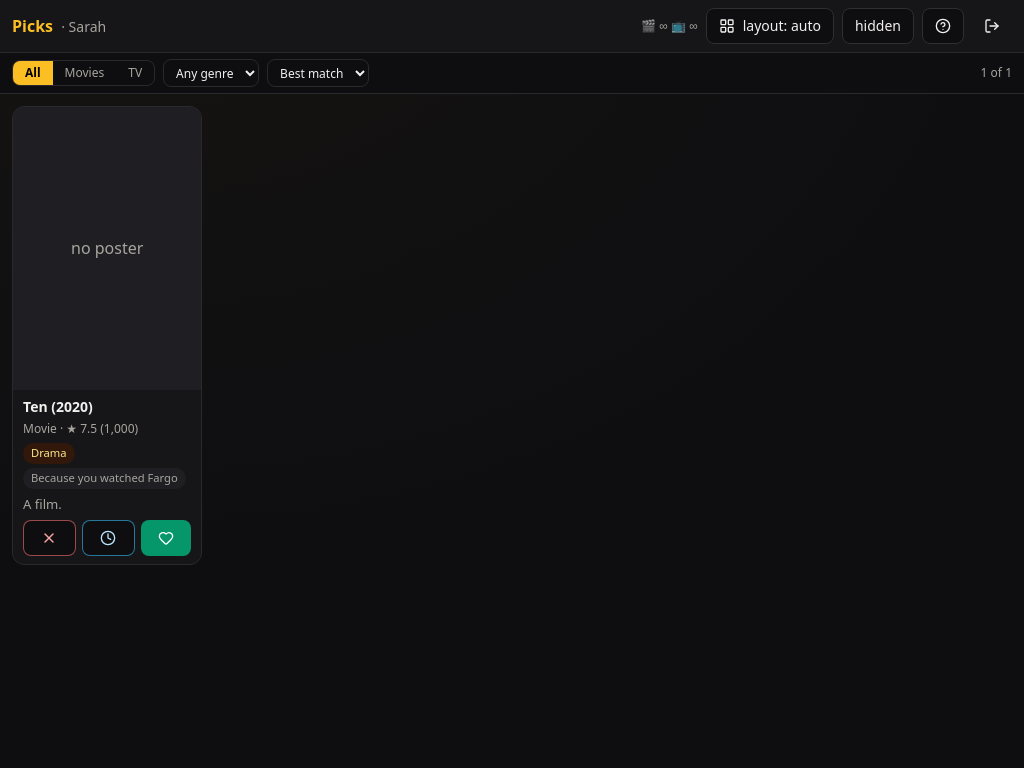
MePage confirmations › says so when a request is approved outright
The width and height of the screenshot is (1024, 768).
expect the text "Ten (2020)" is shown: met, box x1=23 y1=397 x2=93 y2=416
Step 1. Click the button named "Request: Ten" → (166, 538), box x1=141 y1=520 x2=191 y2=556
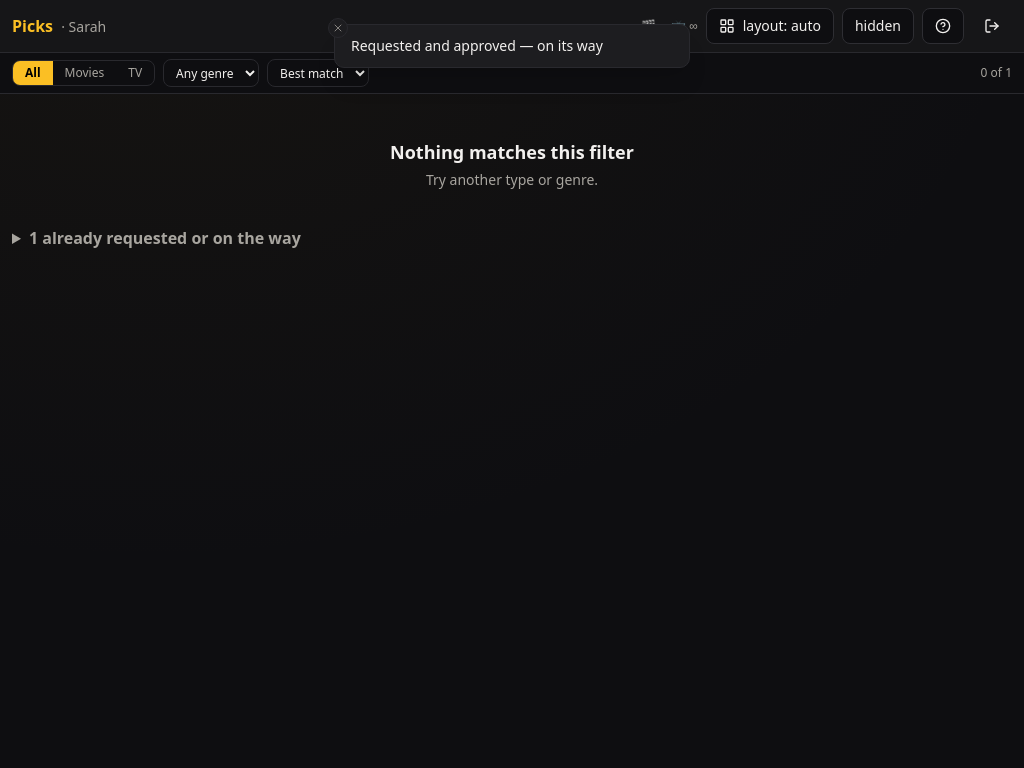
expect the text "Requested and approved — on its way" is shown: met, box x1=351 y1=37 x2=603 y2=54
